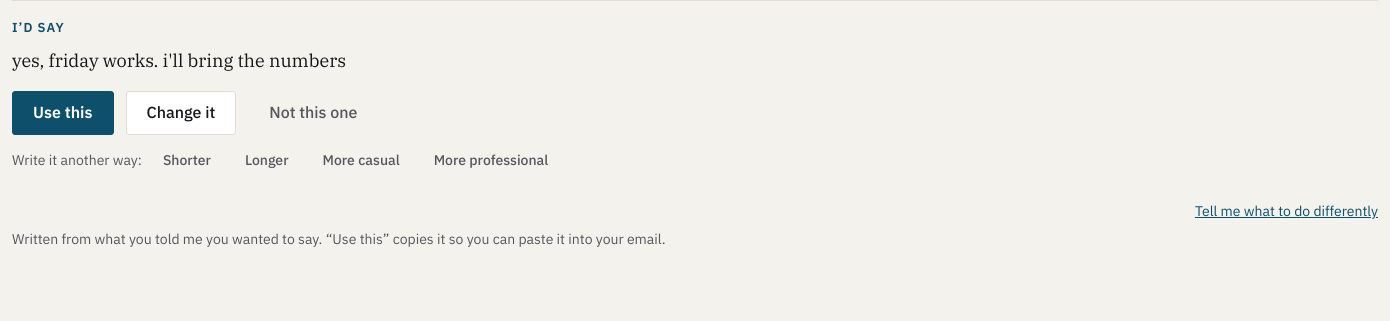
Scenario: other ways of saying a draft › says why when another way can't be written, and keeps what is there
The image size is (1390, 321).
Click the button "Longer" at x=267, y=160, box [232,143,302,177]
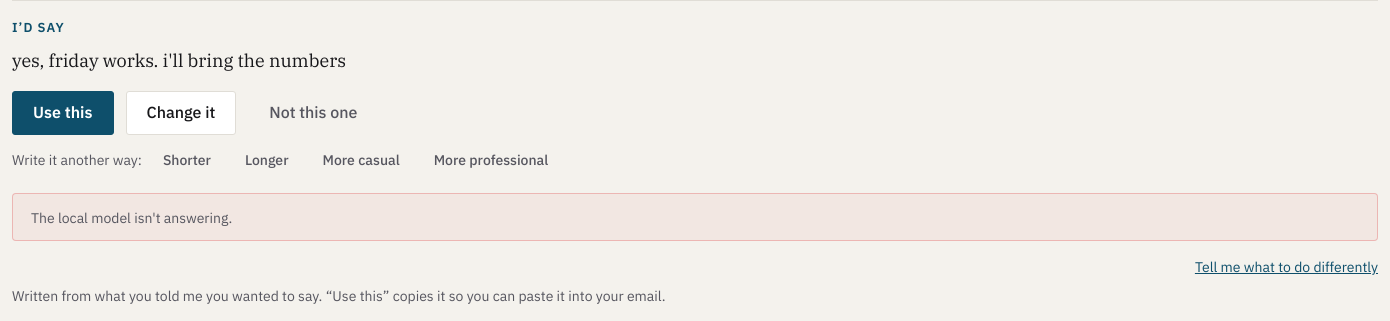
Expected: the text "yes, friday works. i'll bring the numbers" is shown, [12,49,346,72]
Expected: the text "The local model isn't answering." is shown, [31,208,232,228]
